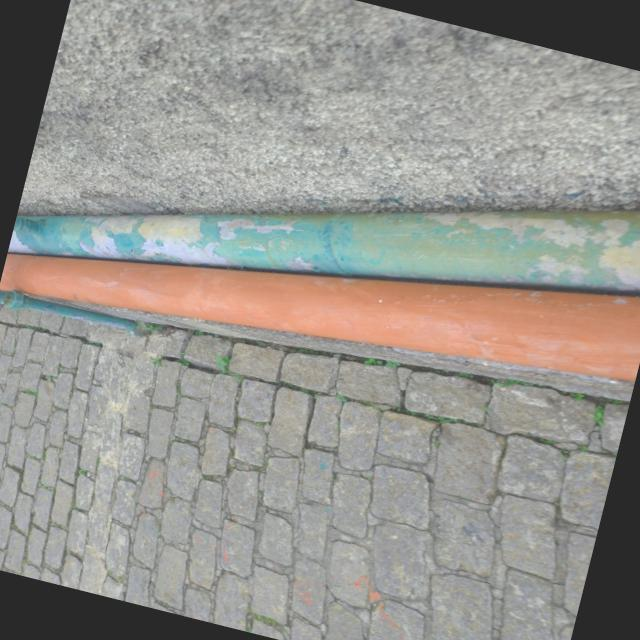gas: (0, 250, 640, 377), (8, 208, 640, 291)
